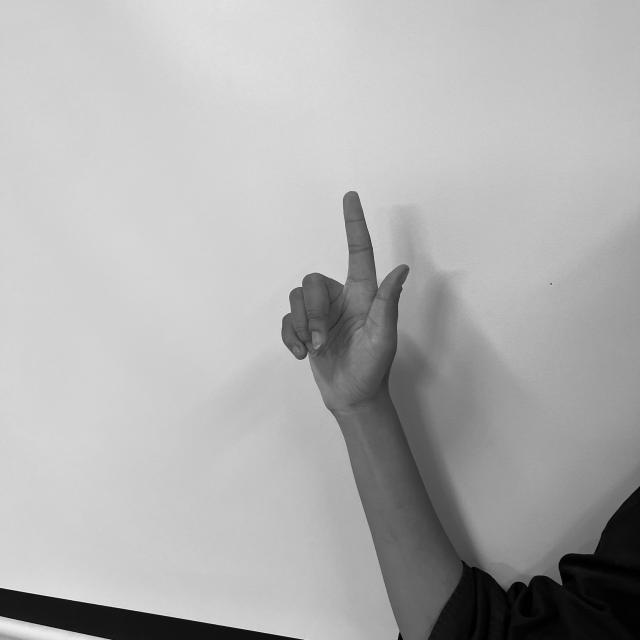Letra G: (275, 184, 417, 411)
